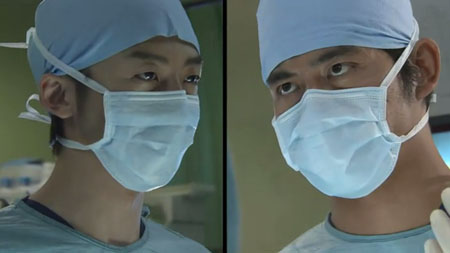mask: (271, 89, 399, 201), (94, 89, 204, 195)
